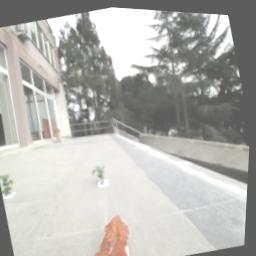herb: (1, 171, 20, 197), (94, 163, 112, 185)
wild: (85, 209, 142, 256)
